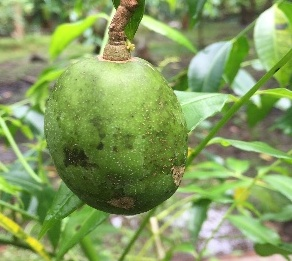Coc: (42, 55, 191, 216)
